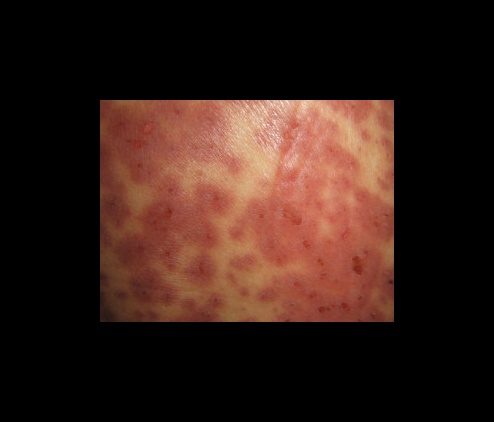SJS-TEN: (101, 100, 396, 321)
